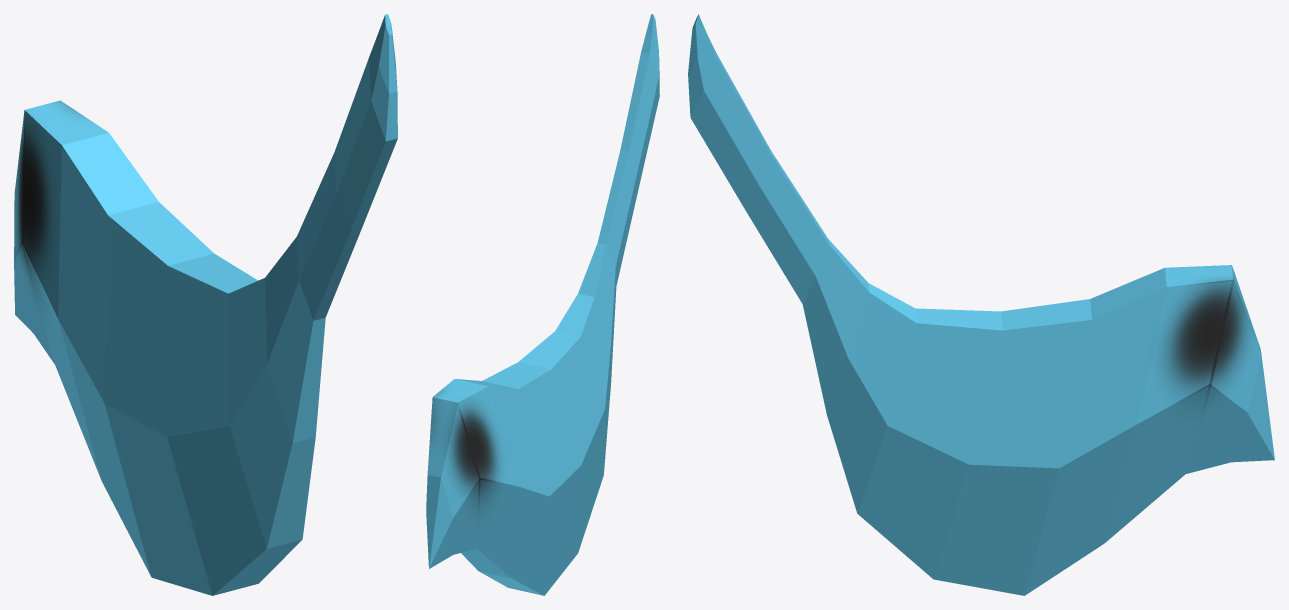
The model's file is sparrow_body.obj.
3 views of the same model, side by side, from view 1: azimuth 30°, elevation 25°; view 2: azimuth 150°, elevation 25°; view 3: azimuth 270°, elevation 25° (orthographic). The views are drawn at different scales.
Visible parts, largest first — view 1: Bird_roll_env_07:lambert10_0; view 2: Bird_roll_env_07:lambert10_0; view 3: Bird_roll_env_07:lambert10_0.
Boxes of the visible parts, x1,y1,x2,y2 form: Bird_roll_env_07:lambert10_0: (14,14,397,595); Bird_roll_env_07:lambert10_0: (426,14,659,595); Bird_roll_env_07:lambert10_0: (688,14,1274,595).
Bounding box in the file's own units: 0.1134 × 0.7268 × 0.6713.
Materials: 1 (1 with a texture image).
